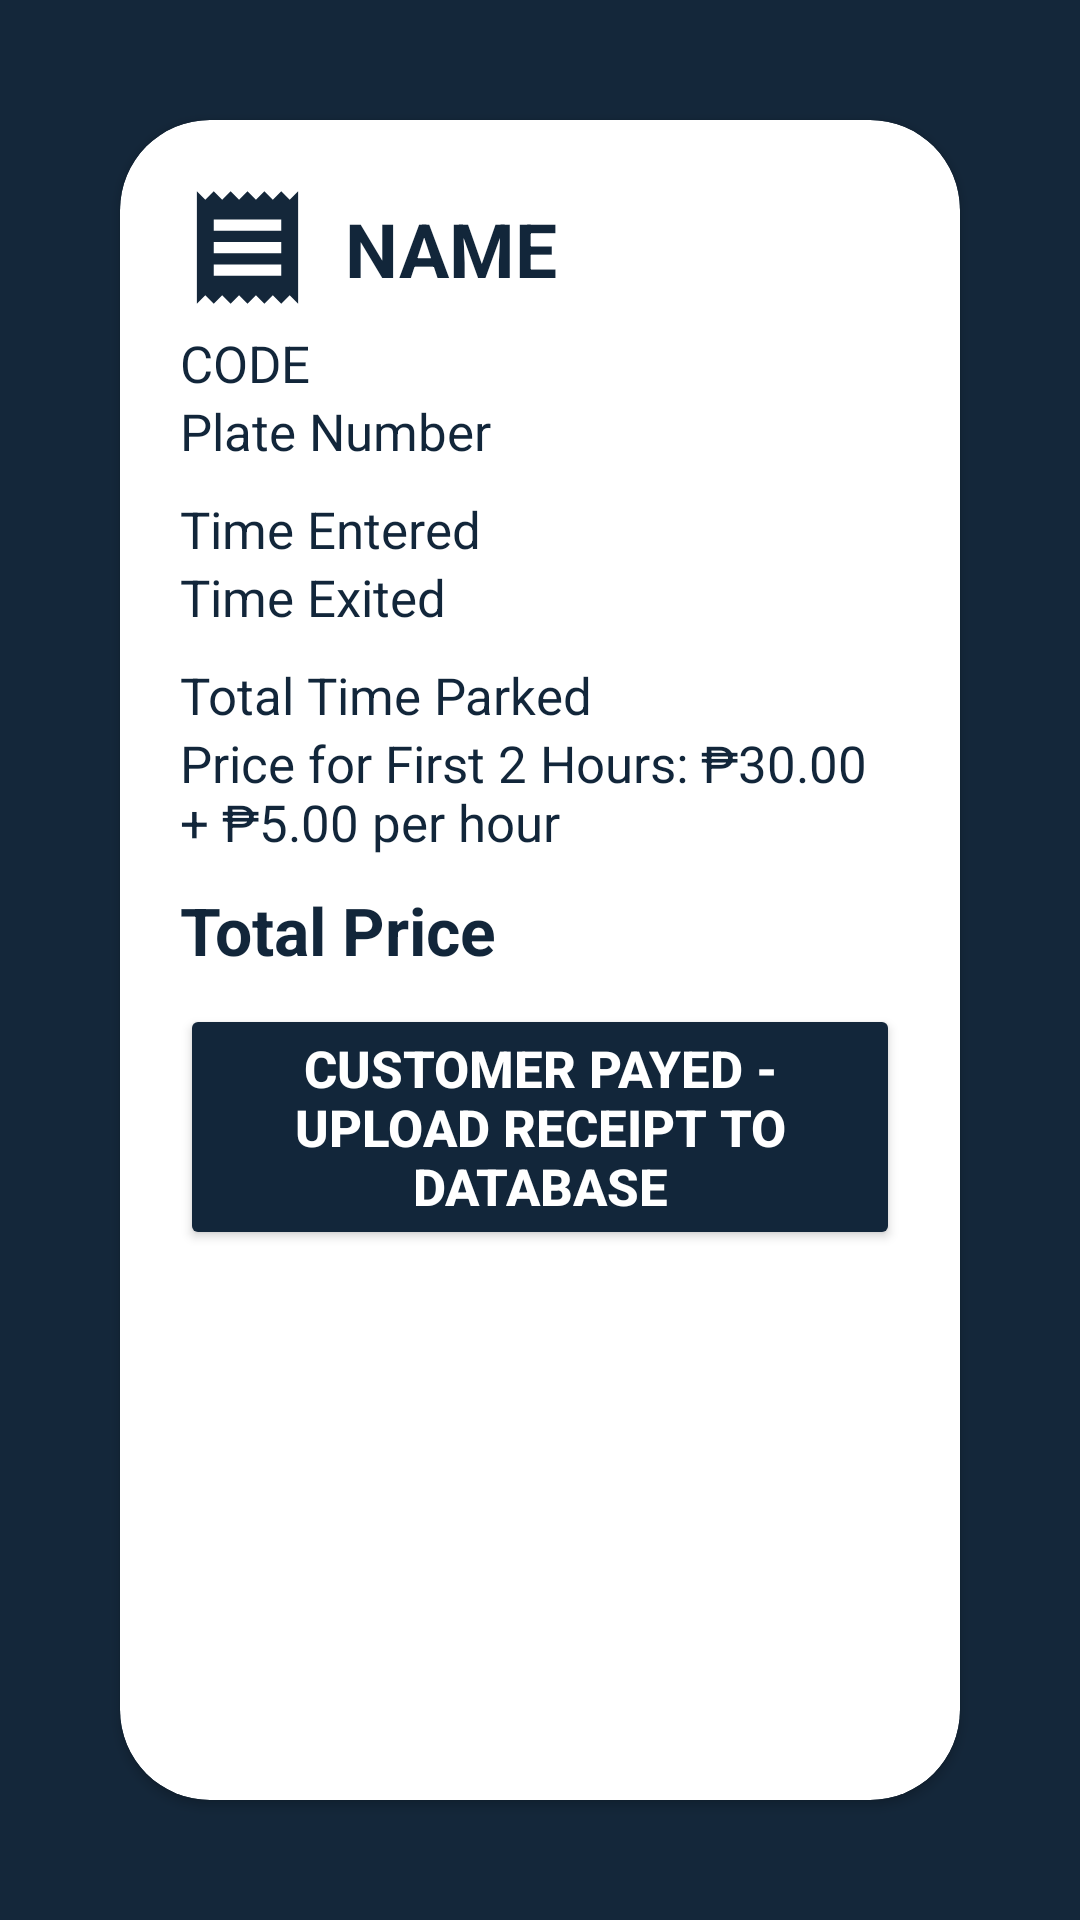

Locate icon controls on the screen. Image size 1080px×1920px, boxes as (x1, y1, x2, y2).
receipt: (196, 191, 299, 304)
